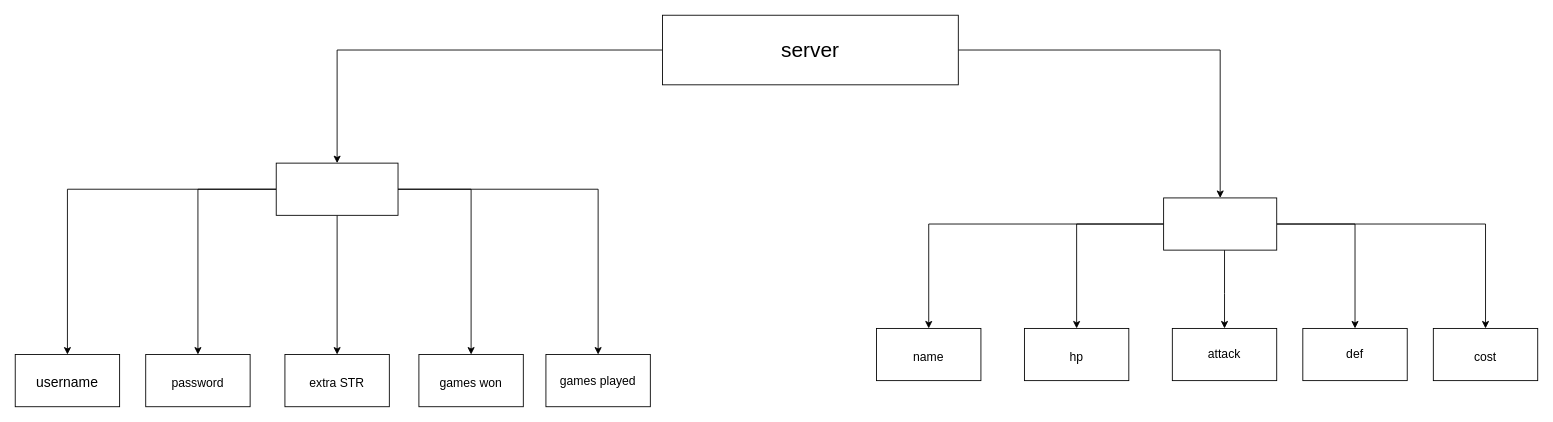
The diagram is 1553 pixels wide and 422 high, and some of its shapes have lost their labels. The shapes that lost their labels are listed below. From the top down, each one's box as (x1, y1, x2, y2) in pixels, then its label:
(275, 162, 398, 215): users
(1163, 197, 1277, 250): pokemons
